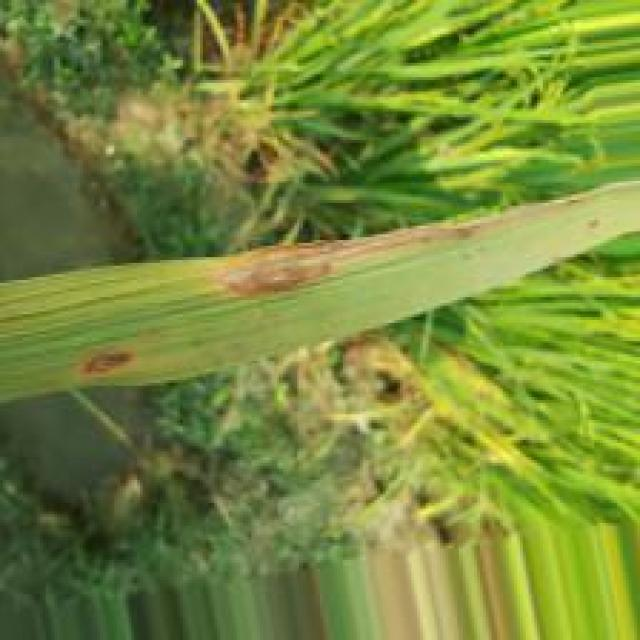Leaf_Blast: (205, 208, 542, 303)
